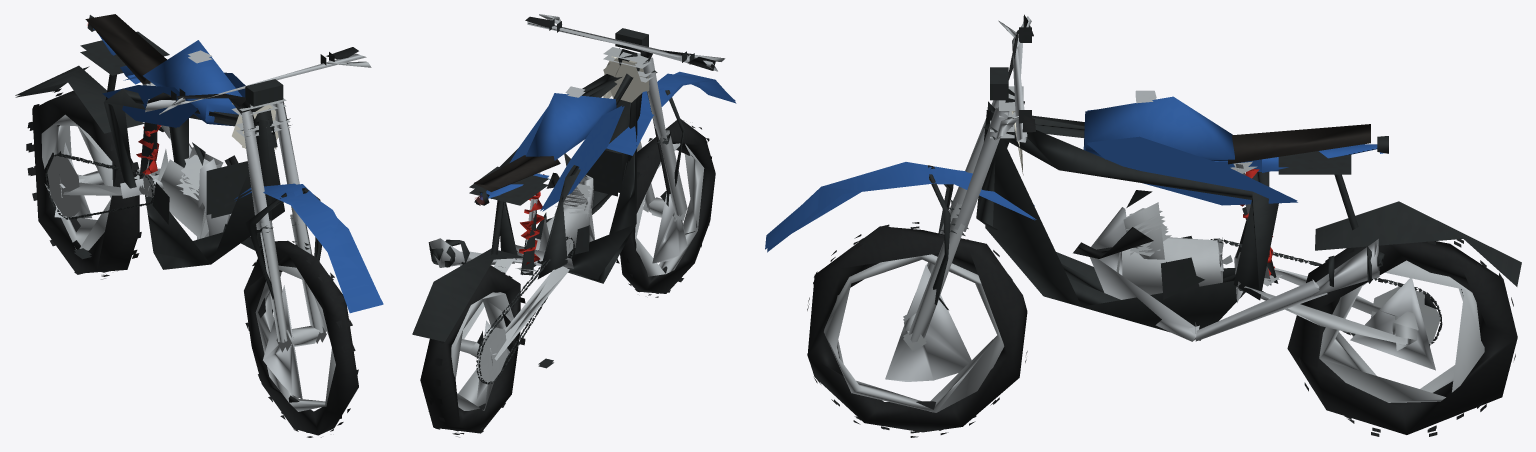
File: moto_cross_far.glb
3 renders of one model, left to right at view 1: azimuth 30°, elevation 25°; view 2: azimuth 150°, elevation 25°; view 3: azimuth 270°, elevation 25°, orthographic. The views are drawn at different scales.
Visible parts, largest first — view 1: alloy-Original black finished iron-Motorcycle body, paint-Original blue outdoor paint-Motorcycle body, alloy-Original brushed aluminium-Motorcycle body, rubber-Original fine-grained tyre rubber-wheel-front, rubber-Original fine-grained tyre rubber-wheel-back, alloy-Original polished steel-Motorcycle body, alloy-Original brushed aluminium-wheel-back, rubber-Original black grained saddle leather-Motorcycle body, alloy-Original brushed aluminium-wheel-front, alloy-Original polished steel-wheel-front, rubber-Original fine-grained tyre rubber-Motorcycle body, paint-Original red outdoor paint-Motorcycle body (+2 smaller); view 2: alloy-Original black finished iron-Motorcycle body, paint-Original blue outdoor paint-Motorcycle body, alloy-Original brushed aluminium-Motorcycle body, rubber-Original fine-grained tyre rubber-wheel-back, rubber-Original fine-grained tyre rubber-wheel-front, alloy-Original polished steel-Motorcycle body, alloy-Original brushed aluminium-wheel-front, alloy-Original brushed aluminium-wheel-back, rubber-Original black grained saddle leather-Motorcycle body, alloy-Original polished steel-wheel-front, paint-Original warm white outdoor paint-Motorcycle body, rubber-Original fine-grained tyre rubber-Motorcycle body (+1 smaller); view 3: alloy-Original black finished iron-Motorcycle body, paint-Original blue outdoor paint-Motorcycle body, rubber-Original fine-grained tyre rubber-wheel-back, rubber-Original fine-grained tyre rubber-wheel-front, alloy-Original brushed aluminium-Motorcycle body, alloy-Original polished steel-Motorcycle body, alloy-Original brushed aluminium-wheel-back, alloy-Original brushed aluminium-wheel-front, alloy-Original polished steel-wheel-front, rubber-Original black grained saddle leather-Motorcycle body, alloy-Original polished steel-wheel-back, rubber-Original fine-grained tyre rubber-Motorcycle body.
Boxes of the visible parts, x1,y1,x2,y2 form: alloy-Original black finished iron-Motorcycle body: (15,15,334,299); paint-Original blue outdoor paint-Motorcycle body: (93,28,383,313); alloy-Original brushed aluminium-Motorcycle body: (47,60,371,352); rubber-Original fine-grained tyre rubber-wheel-front: (244,240,358,437); rubber-Original fine-grained tyre rubber-wheel-back: (26,86,141,279); alloy-Original polished steel-Motorcycle body: (120,50,366,239); alloy-Original brushed aluminium-wheel-back: (41,114,112,250); rubber-Original black grained saddle leather-Motorcycle body: (85,14,166,84); alloy-Original brushed aluminium-wheel-front: (255,265,335,411); alloy-Original polished steel-wheel-front: (263,285,302,399); rubber-Original fine-grained tyre rubber-Motorcycle body: (146,47,358,165); paint-Original red outdoor paint-Motorcycle body: (136,122,161,174); alloy-Original black finished iron-Motorcycle body: (412,19,694,384); paint-Original blue outdoor paint-Motorcycle body: (479,71,736,211); alloy-Original brushed aluminium-Motorcycle body: (462,14,725,381); rubber-Original fine-grained tyre rubber-wheel-back: (420,265,525,437); rubber-Original fine-grained tyre rubber-wheel-front: (616,119,715,297); alloy-Original polished steel-Motorcycle body: (429,21,717,268); alloy-Original brushed aluminium-wheel-front: (635,143,704,276); alloy-Original brushed aluminium-wheel-back: (451,292,513,410); rubber-Original black grained saddle leather-Motorcycle body: (474,155,560,191); alloy-Original polished steel-wheel-front: (646,192,687,263); paint-Original warm white outdoor paint-Motorcycle body: (603,56,649,102); rubber-Original fine-grained tyre rubber-Motorcycle body: (525,16,715,194); alloy-Original black finished iron-Motorcycle body: (927,27,1521,345); paint-Original blue outdoor paint-Motorcycle body: (765,96,1384,252); rubber-Original fine-grained tyre rubber-wheel-back: (1287,239,1517,436); rubber-Original fine-grained tyre rubber-wheel-front: (807,222,1027,437); alloy-Original brushed aluminium-Motorcycle body: (903,20,1440,351); alloy-Original polished steel-Motorcycle body: (951,16,1379,341); alloy-Original brushed aluminium-wheel-back: (1319,260,1484,402); alloy-Original brushed aluminium-wheel-front: (824,254,1004,412); alloy-Original polished steel-wheel-front: (885,264,971,381); rubber-Original black grained saddle leather-Motorcycle body: (1228,124,1370,164); alloy-Original polished steel-wheel-back: (1350,278,1435,370); rubber-Original fine-grained tyre rubber-Motorcycle body: (998,14,1153,258).
Size of the model in its own units: 0.8667 by 1.22 by 2.29.
Materials: 9 (9 with a texture image).
